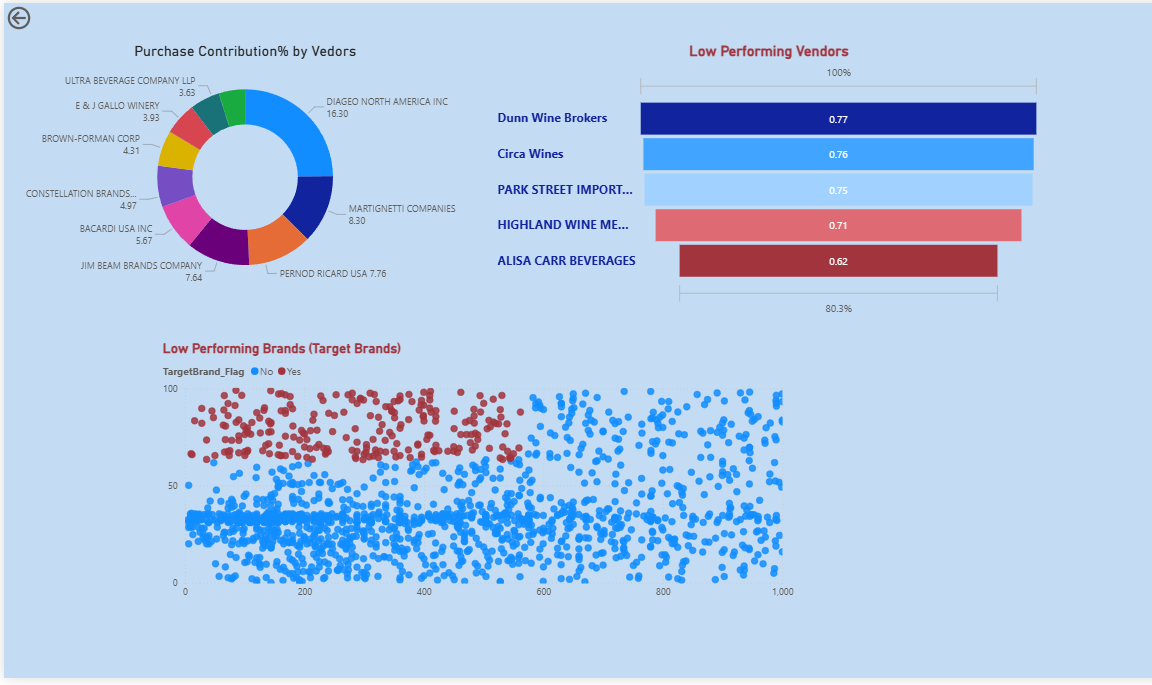

The page's visual inventory and layout, read from the dashboard file:
{"tool":"powerbi","page":{"name":"Page 3","canvas":[1600,900],"ordinal":1},"visuals":[{"type":"donutChart","title":"Purchase Contribution% by Vedors","fields":{"Category":["PurchaseContribution.VendorName"],"Y":["Sum(PurchaseContribution.PurchaseContribution%)"]},"box":[21.7,53.3,600,336.7],"z":1},{"type":"funnel","title":"Low Performing Vendors","fields":{"Category":["LowTurnoverVendors.VendorName"],"Y":["Avg(LowTurnoverVendors.AvgStockTurnover)"]},"box":[653.3,53.3,733.3,370],"z":2},{"type":"scatterChart","title":"Low Performing Brands (Target Brands)","fields":{"X":["LowTurnoverVendors.Total Salesb"],"Y":["LowTurnoverVendors.Avg Profit Marginb"],"Category":["vendor_sales_summary.Description"],"Series":["vendor_sales_summary.TargetBrand_Flag"]},"box":[207.1,450,851.4,352.9],"z":3},{"type":"actionButton","box":[0,0,100,40],"z":5}]}

Visuals, with their boxes on the page's 1600x900 design canvas (x1, y1, x2, y2). These are canvas units, not pixel positions in the 1152x685 screenshot, which may show the page scaled, cropped or inside an application window:
"Purchase Contribution% by Vedors" donutChart: box=[22, 53, 622, 390]
"Low Performing Vendors" funnel: box=[653, 53, 1387, 423]
"Low Performing Brands (Target Brands)" scatterChart: box=[207, 450, 1058, 803]
actionButton: box=[0, 0, 100, 40]
